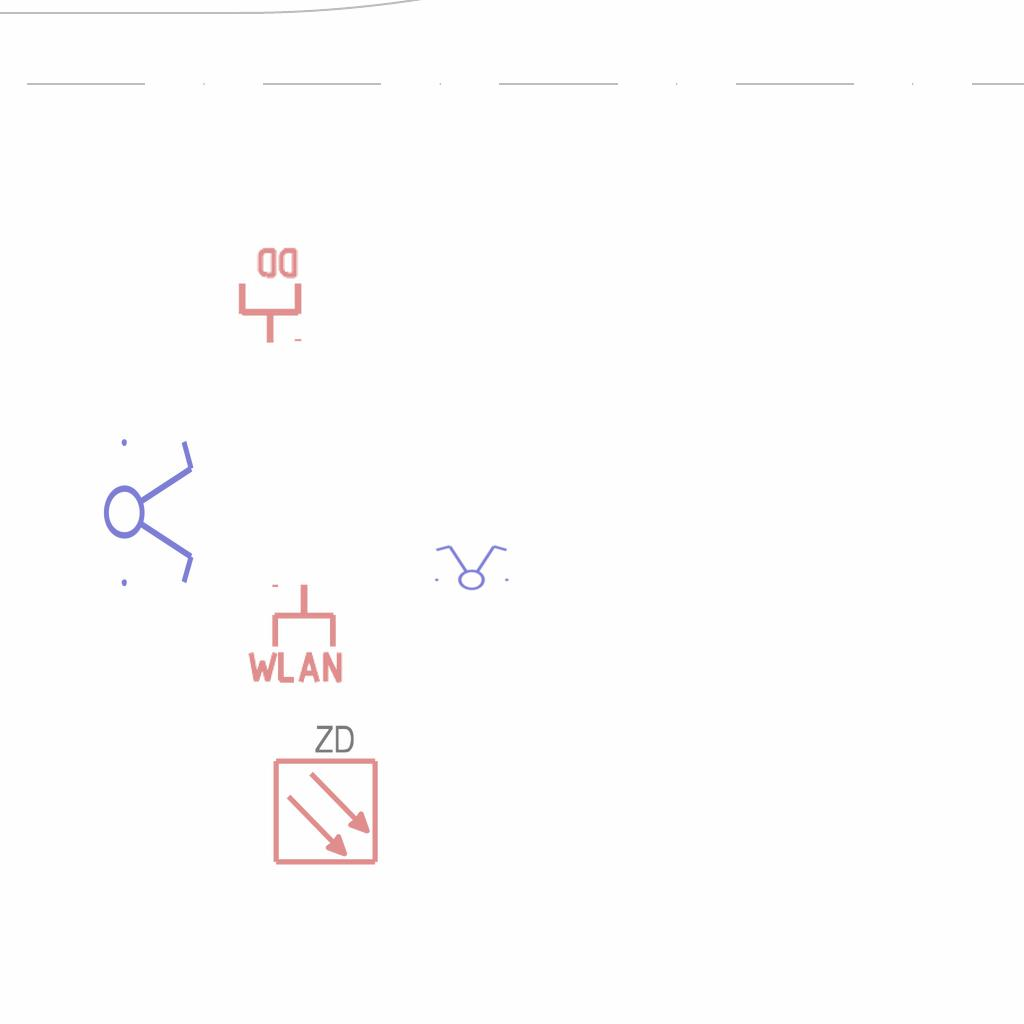Datenanschluss_zweifach: (234, 243, 303, 346)
Serienschalter: (102, 427, 198, 595), (429, 543, 513, 591)
WLAN: (243, 580, 347, 685)
ZD_Melder_in_Zwischendecke_mit_Revisionsoeffnung_mind_40_x_40_cm: (267, 718, 381, 867)
